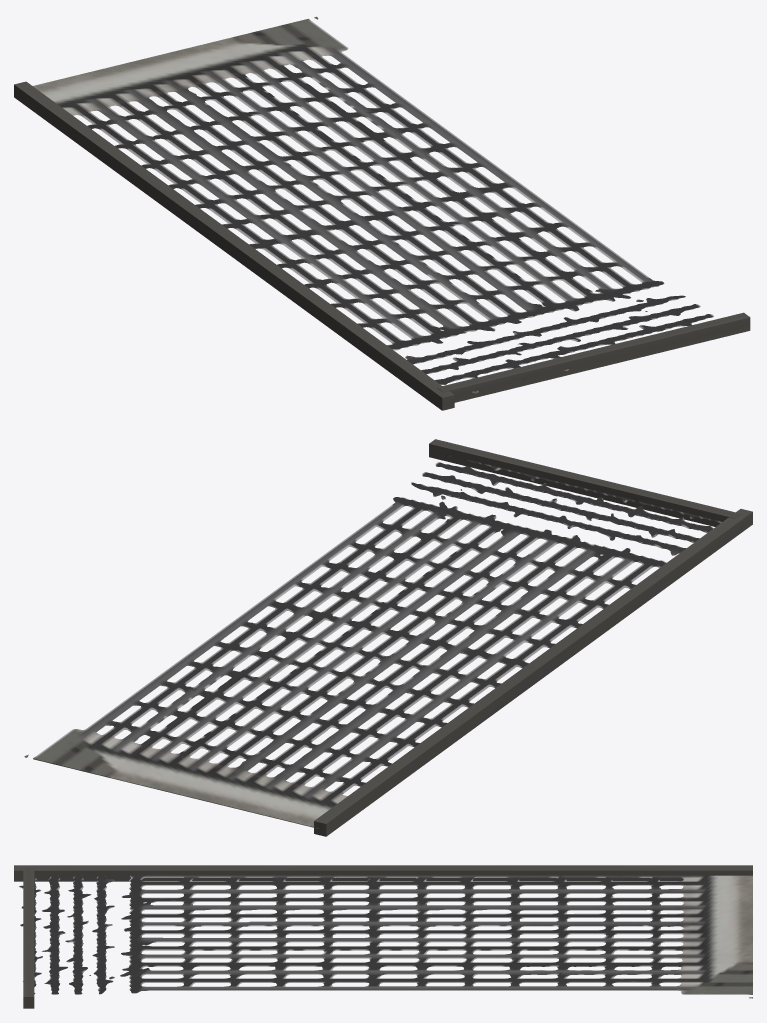
File: pz_fence_png_fencing_01_49.obj
The picture shows the model from 3 angles, top to bottom: view 1: azimuth 30°, elevation 25°; view 2: azimuth 150°, elevation 25°; view 3: azimuth 270°, elevation 25°; orthographic projection. The views are drawn at different scales.
Size of the model in its own units: 1.02 by 0.042 by 2.41.
Materials: 1 (1 with a texture image).
